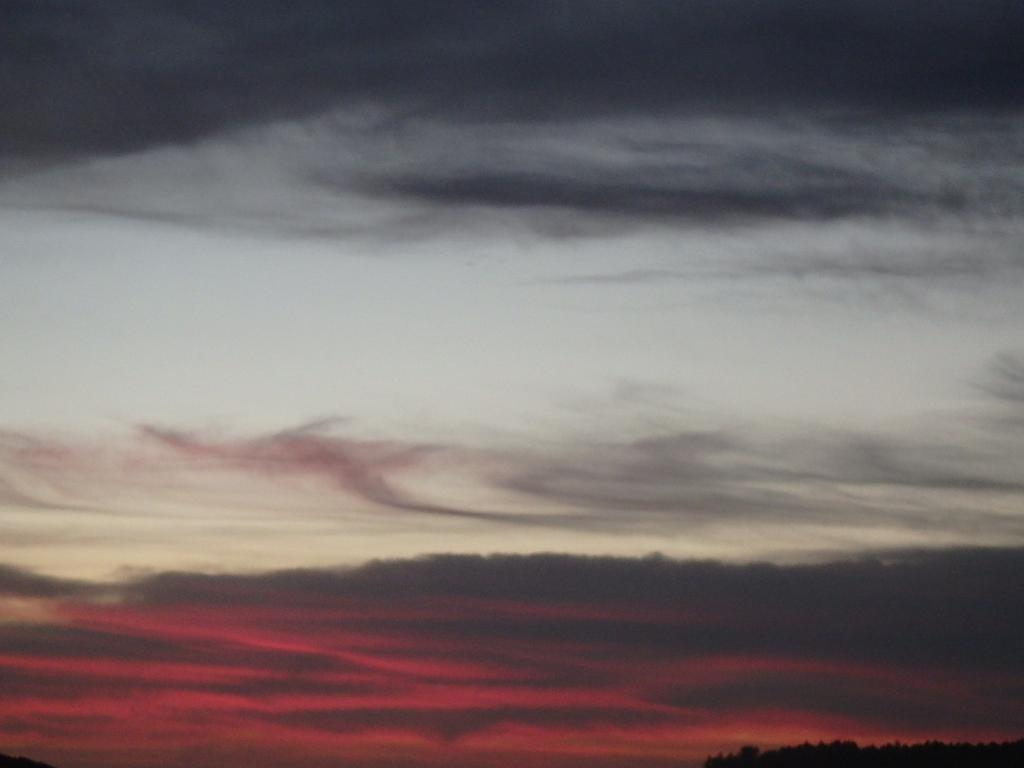Tree: (700, 739, 1023, 767)
